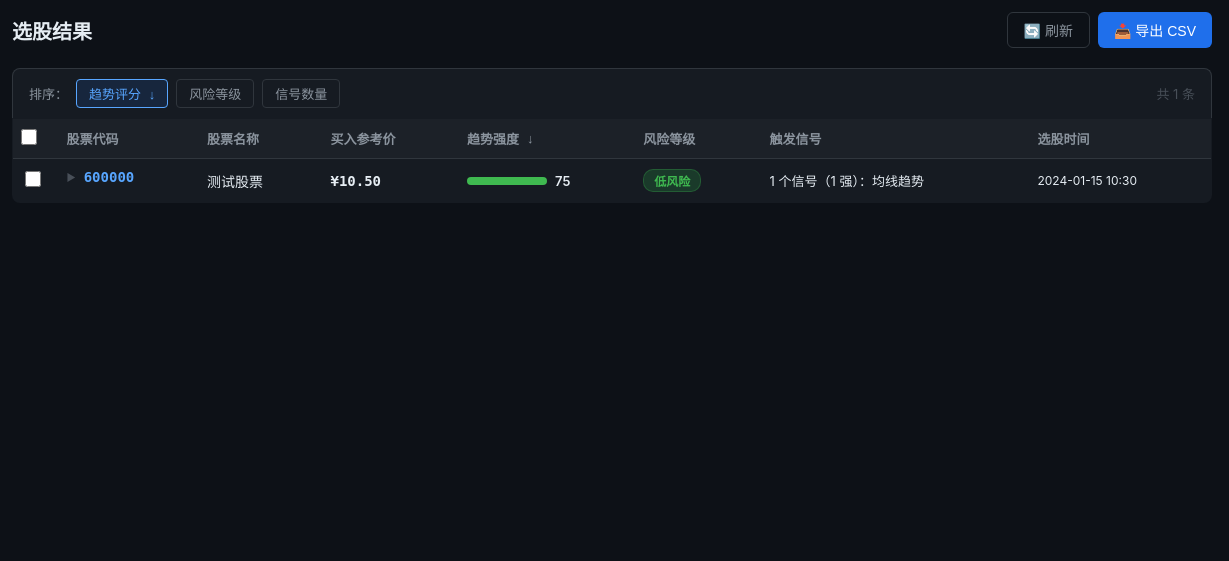
Test case: ScreenerResultsView - 信号标签增强 › 图例组件条件渲染 › 有选股结果时，展开详情后显示信号强度图例
Click the row with class "result-row": [612, 180] box 12,158 -> 1212,202
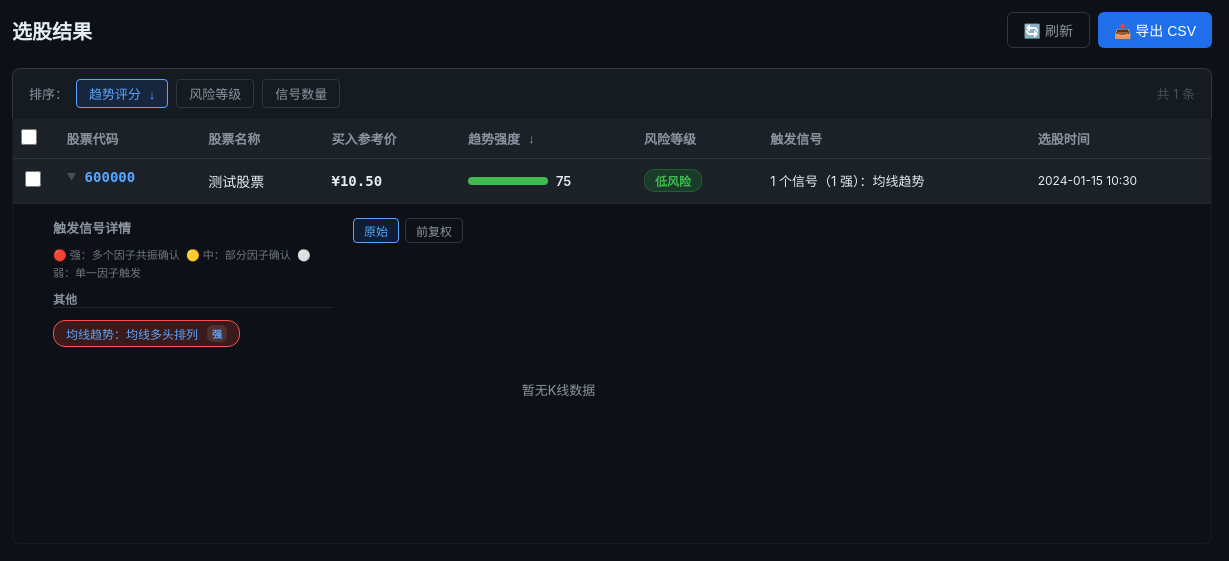
Result: the text "🔴 强：多个因子共振确认 🟡 中：部分因子确认 ⚪ 弱：单一因子触发" is shown at 53,247 -> 333,282
Result: the text with class "signal-strength-legend" shows "强：多个因子共振确认" at 53,248 -> 311,280
Result: the text with class "signal-strength-legend" shows "中：部分因子确认" at 53,248 -> 311,280
